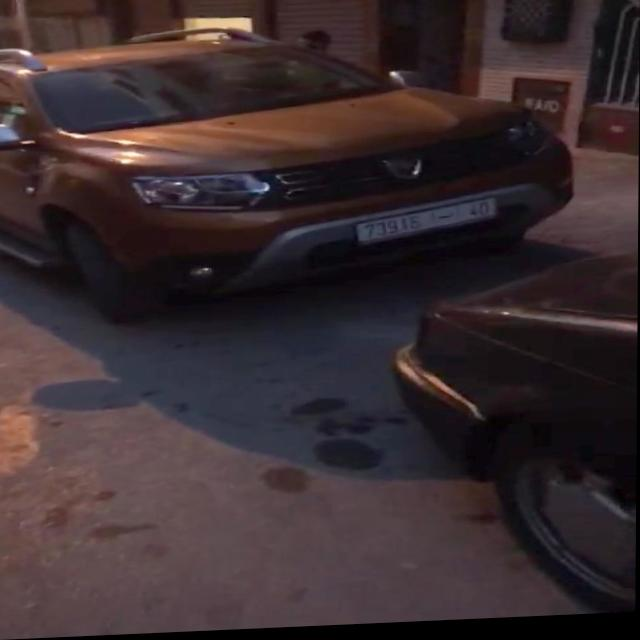License-Plate: (359, 202, 495, 244)
